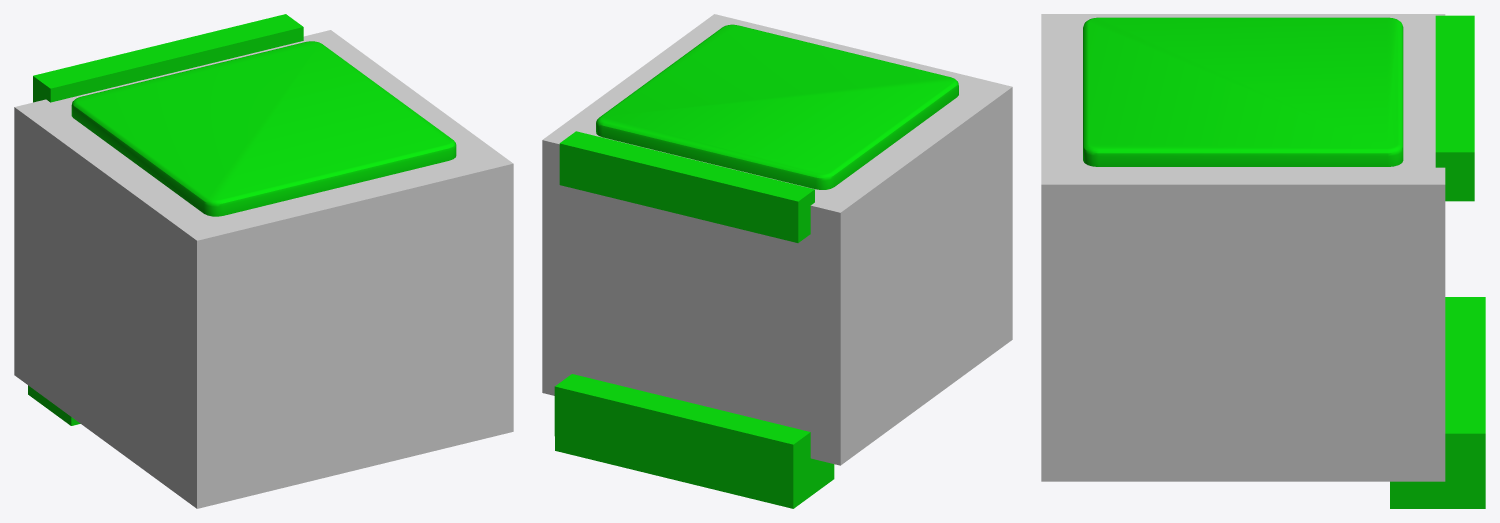
File: TileMetalBar.fbx
3 renders of one model, left to right at view 1: azimuth 30°, elevation 25°; view 2: azimuth 150°, elevation 25°; view 3: azimuth 270°, elevation 25°, orthographic. The views are drawn at different scales.
Parts seen in each view (by area): view 1: TileMetalBar; view 2: TileMetalBar; view 3: TileMetalBar.
Boxes of the visible parts, x1=… form: TileMetalBar: x1=14, y1=14, x2=513, y2=508; TileMetalBar: x1=542, y1=14, x2=1012, y2=508; TileMetalBar: x1=1041, y1=14, x2=1485, y2=508.
Bounding box in the file's own units: 100 × 97.54 × 110.
